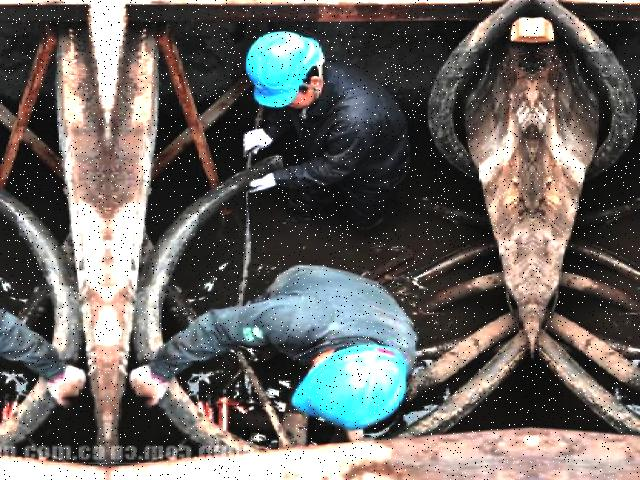Helmet: (284, 337, 417, 437), (239, 26, 329, 114)
